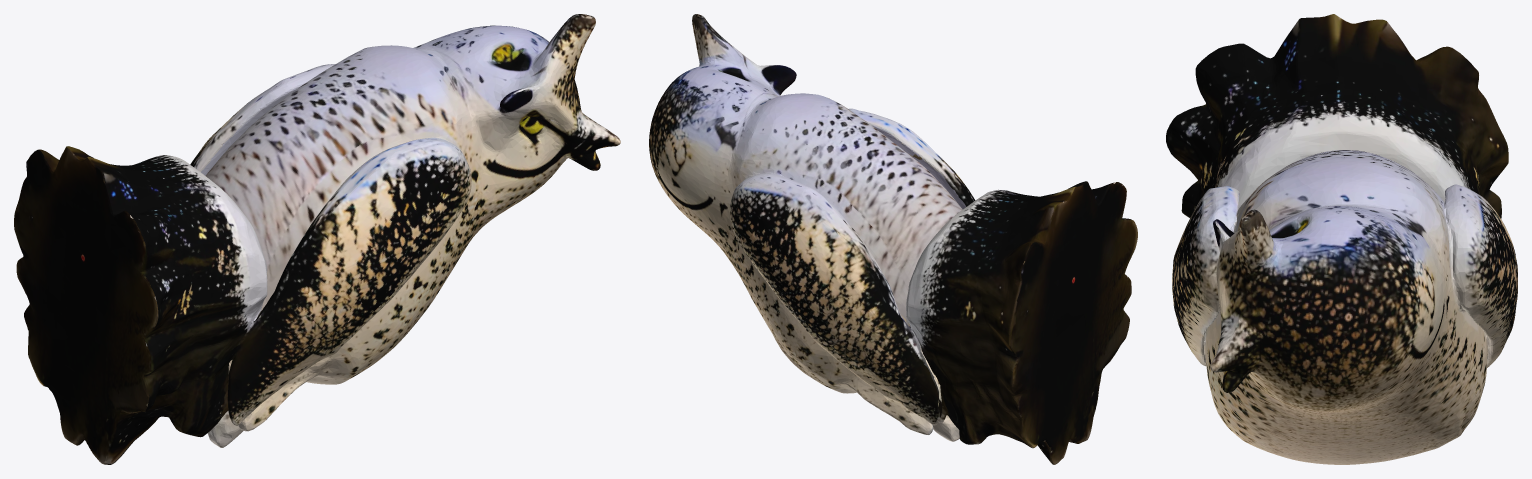
Rendered from white-and-black-owl.glb.
3 renders of one model, left to right at view 1: azimuth 30°, elevation 25°; view 2: azimuth 150°, elevation 25°; view 3: azimuth 270°, elevation 25°, orthographic. The views are drawn at different scales.
Visible parts, largest first — view 1: white and black owl_textured.obj; view 2: white and black owl_textured.obj; view 3: white and black owl_textured.obj.
Part boxes in pixels (x1,y1,x2,y2): white and black owl_textured.obj: (14,14,620,464); white and black owl_textured.obj: (649,14,1137,464); white and black owl_textured.obj: (1166,14,1517,464).
Bounding box in the file's own units: 2 × 1.4 × 1.06.
Materials: 1 (1 with a texture image).
